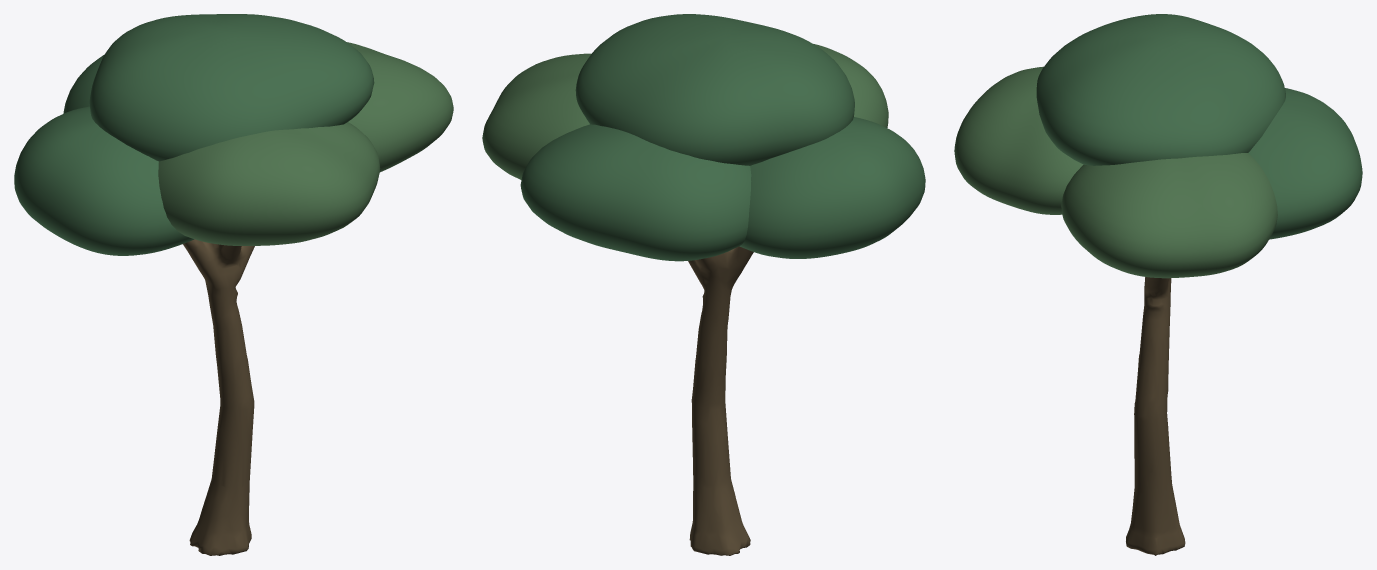
File: city_planting_04_broad-fresh.glb
3 views of the same model, side by side, from view 1: azimuth 30°, elevation 25°; view 2: azimuth 150°, elevation 25°; view 3: azimuth 270°, elevation 25° (orthographic). The views are drawn at different scales.
Parts seen in each view (by area): view 1: broad_crown_leader, broad_crown_back, broad_crown_west, broad_sculpted_trunk, broad_crown_east, broad_crown_front; view 2: broad_crown_leader, broad_crown_front, broad_crown_west, broad_sculpted_trunk, broad_crown_east, broad_crown_back; view 3: broad_crown_leader, broad_crown_east, broad_crown_back, broad_crown_front, broad_sculpted_trunk.
Part boxes in pixels (<box>): broad_crown_leader: <box>89,14,374,161</box>; broad_crown_back: <box>158,122,380,245</box>; broad_crown_west: <box>14,106,194,255</box>; broad_sculpted_trunk: <box>183,239,254,555</box>; broad_crown_east: <box>347,42,453,172</box>; broad_crown_front: <box>63,54,104,113</box>; broad_crown_leader: <box>575,14,854,165</box>; broad_crown_front: <box>520,124,751,261</box>; broad_crown_west: <box>739,117,925,258</box>; broad_sculpted_trunk: <box>688,246,753,555</box>; broad_crown_east: <box>482,53,591,179</box>; broad_crown_back: <box>813,44,888,127</box>; broad_crown_leader: <box>1036,14,1285,165</box>; broad_crown_east: <box>1061,153,1277,278</box>; broad_crown_back: <box>954,66,1083,214</box>; broad_crown_front: <box>1248,88,1362,239</box>; broad_sculpted_trunk: <box>1126,277,1185,555</box>.
Bounding box in the file's own units: 2.77 × 3.32 × 2.44.
